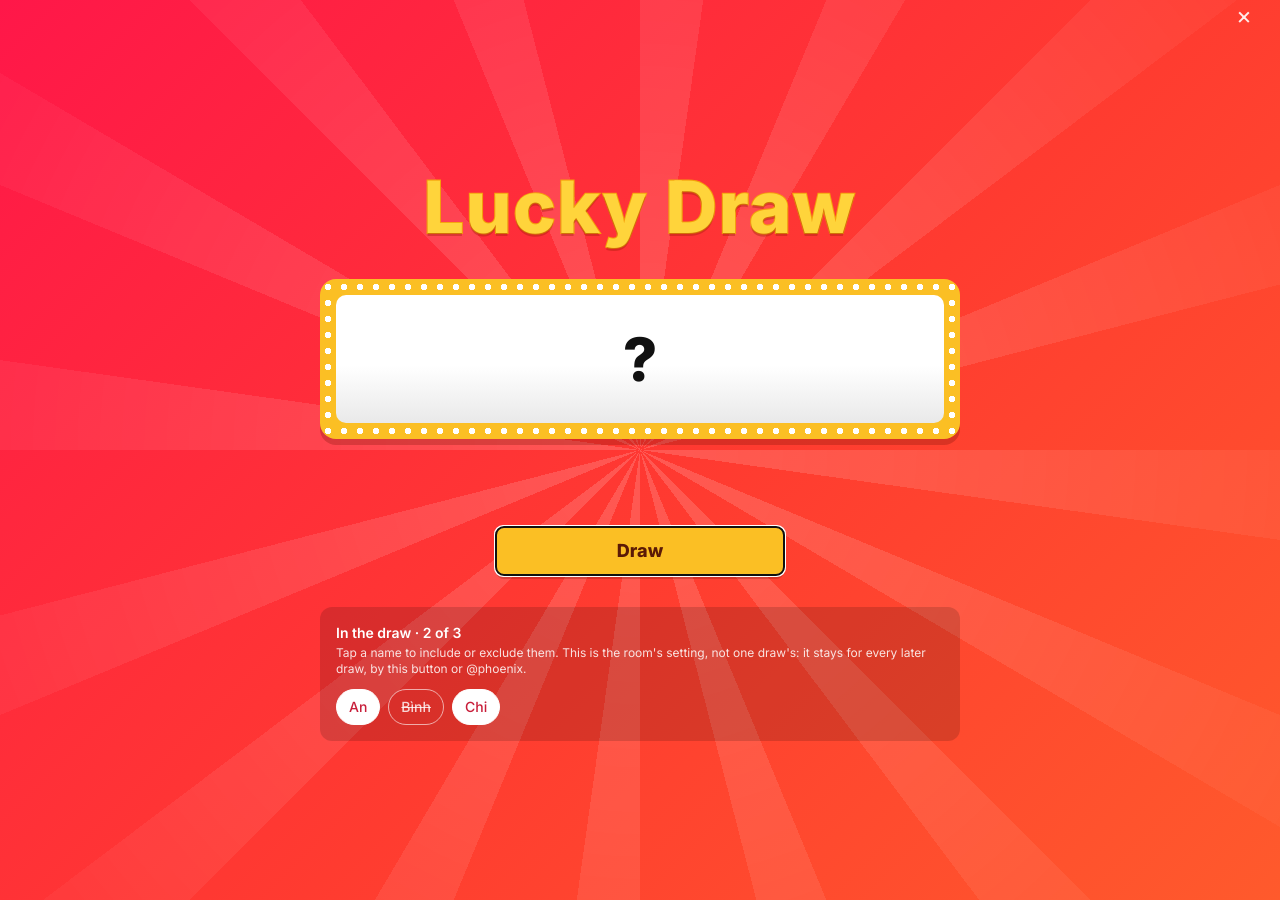
Test: LuckyDrawDialog › starts from the saved list and saves a toggle
This screenshot has width=1280, height=900.
Expected: the heading "In the draw · 2 of 3" is shown, x1=336 y1=624 x2=462 y2=641
Click the button "Bình": (416, 707) x1=388 y1=689 x2=444 y2=725
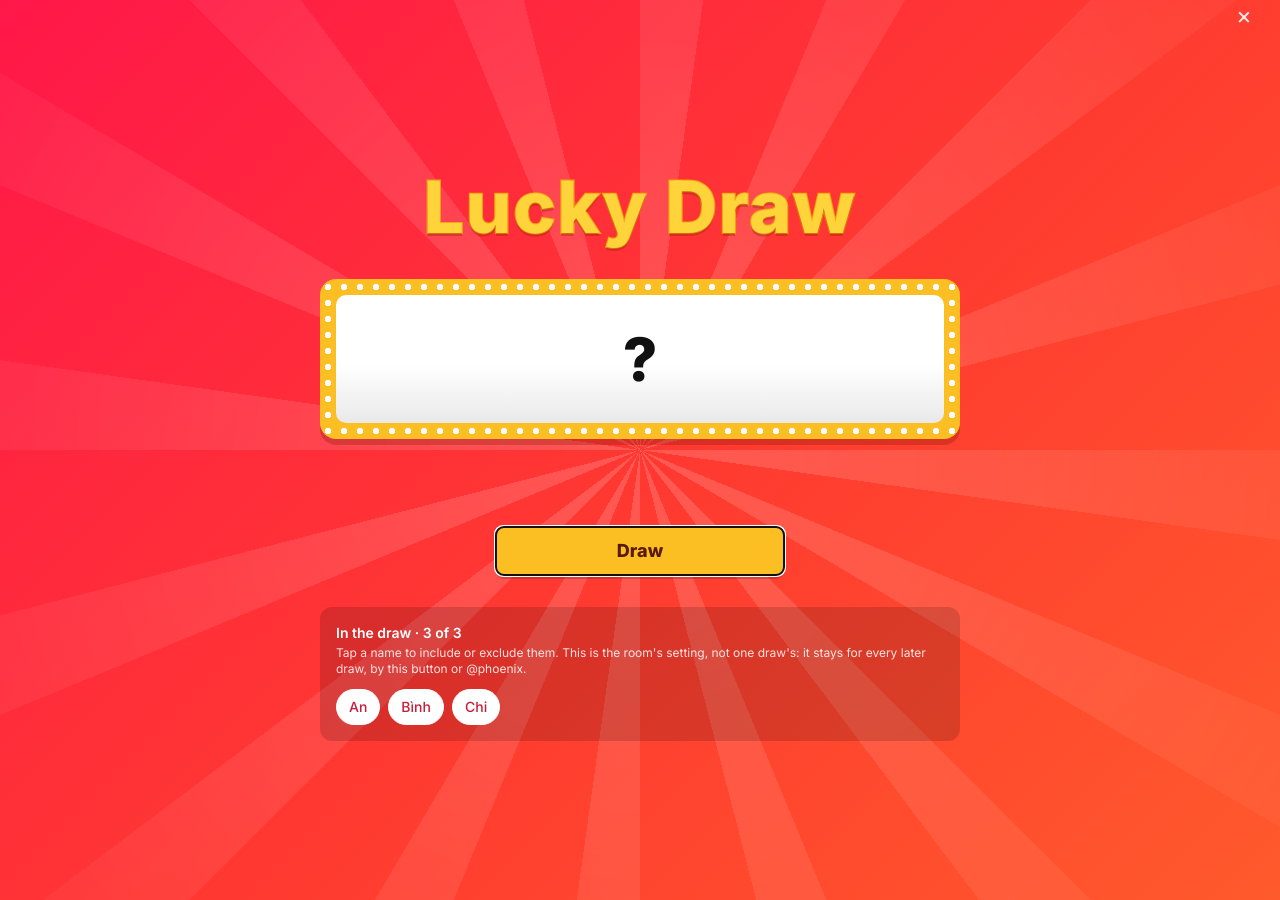
Now the heading "In the draw · 3 of 3" is shown, box x1=336 y1=624 x2=462 y2=641
